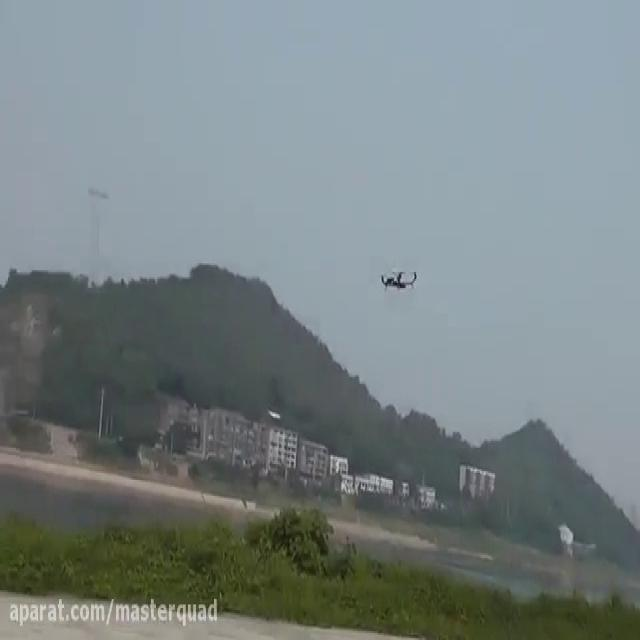drone: (377, 263, 419, 293)
